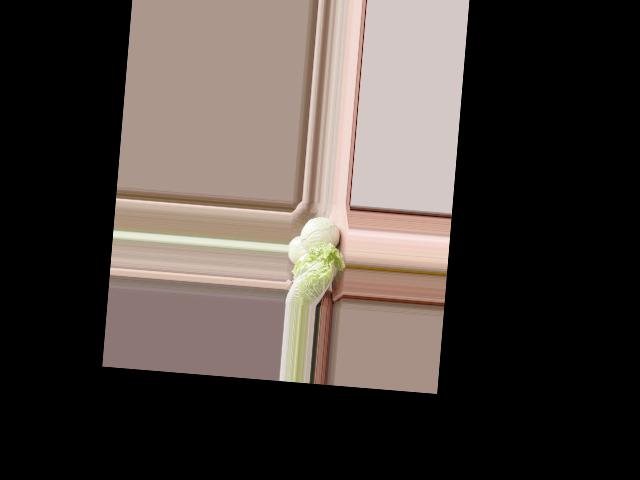lettuce: (287, 240, 347, 307)
